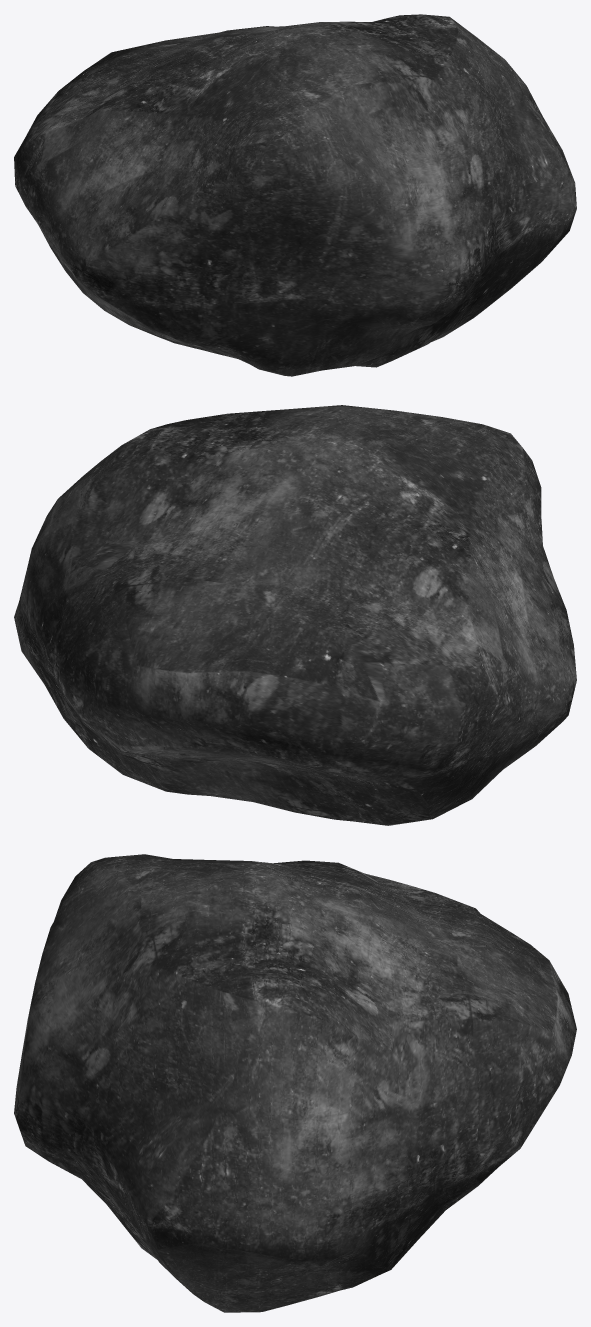
File: ast1.fbx
3 views of the same model, one above another, from view 1: azimuth 30°, elevation 25°; view 2: azimuth 150°, elevation 25°; view 3: azimuth 270°, elevation 25° (orthographic). The views are drawn at different scales.
Visible parts, largest first — view 1: pPlatonic1; view 2: pPlatonic1; view 3: pPlatonic1.
Part boxes in pixels (bbox=[...]): pPlatonic1: bbox=[14, 14, 576, 376]; pPlatonic1: bbox=[14, 405, 576, 825]; pPlatonic1: bbox=[14, 854, 576, 1312].
Bounding box in the file's own units: 2.94 × 1.93 × 2.67.
1 material, 1 textured.
